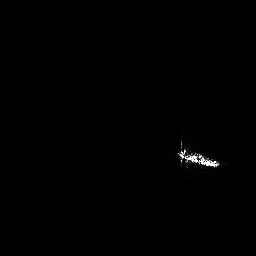ship: (173, 139, 223, 173)
